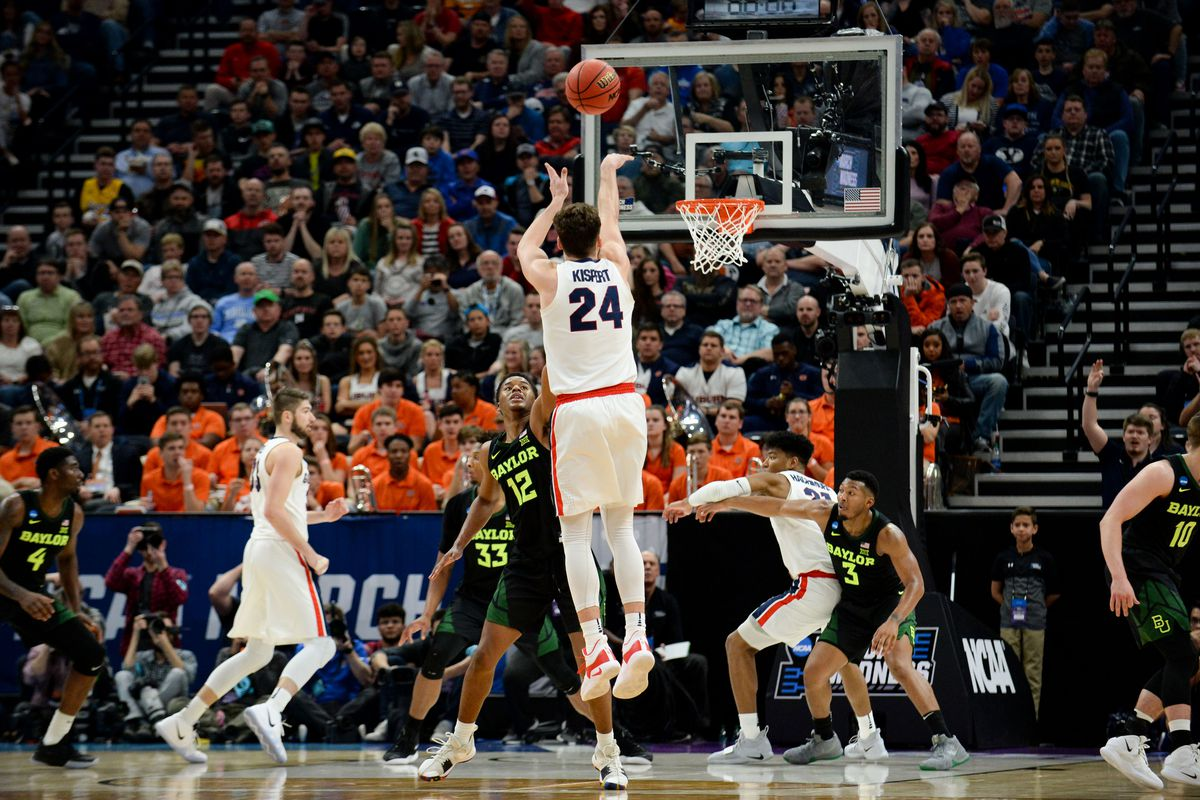ball: (548, 46, 629, 127)
basket: (674, 182, 774, 285)
defense: (682, 427, 979, 773)
run: (146, 373, 349, 785)
shoot: (504, 139, 662, 706)
